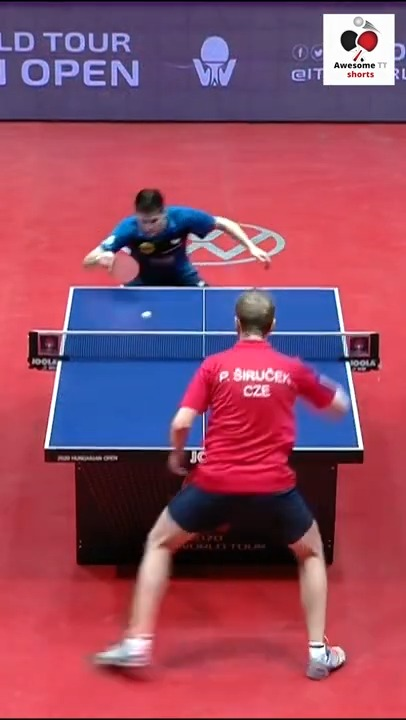Ball: (141, 308, 151, 320)
